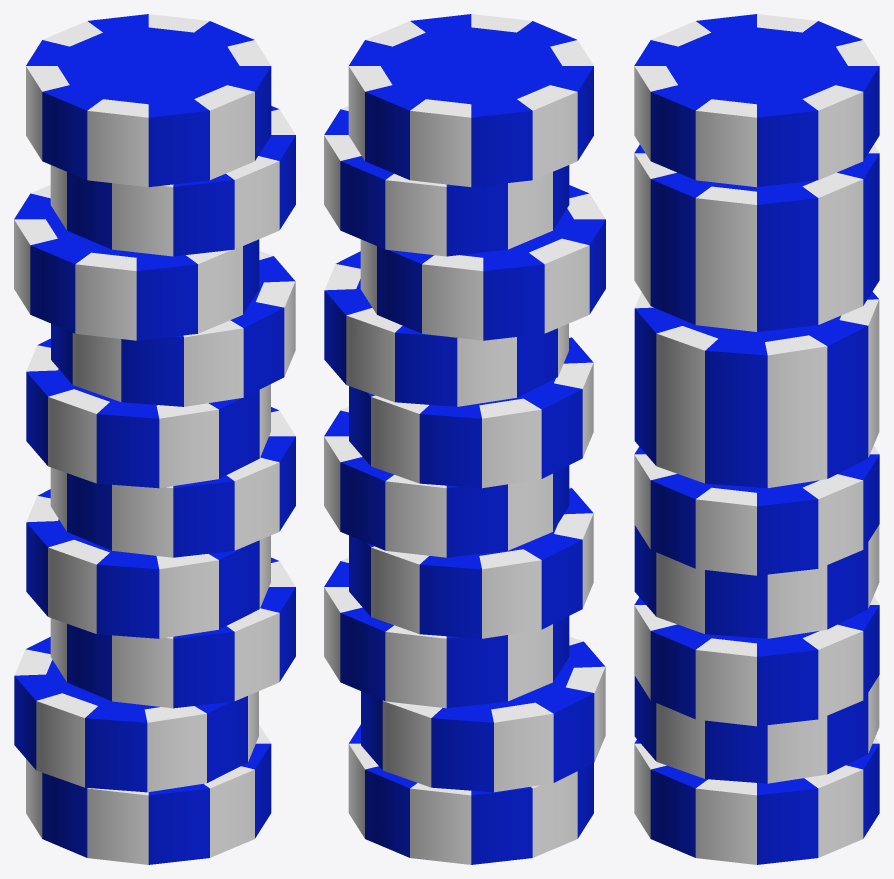
The model's file is Poker Chip Blue Large Stack.FBX.
The picture shows the model from 3 angles, left to right: view 1: azimuth 30°, elevation 25°; view 2: azimuth 150°, elevation 25°; view 3: azimuth 270°, elevation 25°; orthographic projection.
Visible parts, largest first — view 1: Poker Chip Blue009, Poker Chip Blue007, Poker Chip Blue001, Poker Chip Blue003, Poker Chip Blue005, Poker Chip Blue006, Poker Chip Blue Large Stack, Poker Chip Blue004, Poker Chip Blue002, Poker Chip Blue008; view 2: Poker Chip Blue009, Poker Chip Blue007, Poker Chip Blue001, Poker Chip Blue005, Poker Chip Blue003, Poker Chip Blue006, Poker Chip Blue Large Stack, Poker Chip Blue008, Poker Chip Blue004, Poker Chip Blue002; view 3: Poker Chip Blue009, Poker Chip Blue006, Poker Chip Blue008, Poker Chip Blue002, Poker Chip Blue004, Poker Chip Blue Large Stack, Poker Chip Blue005, Poker Chip Blue003, Poker Chip Blue001, Poker Chip Blue007.
Boxes of the visible parts, left/top/right/bottom form: Poker Chip Blue009: left=26, top=14, right=271, bottom=187; Poker Chip Blue007: left=14, top=185, right=259, bottom=340; Poker Chip Blue001: left=14, top=637, right=258, bottom=792; Poker Chip Blue003: left=26, top=489, right=270, bottom=638; Poker Chip Blue005: left=26, top=338, right=270, bottom=488; Poker Chip Blue006: left=51, top=251, right=295, bottom=406; Poker Chip Blue Large Stack: left=26, top=724, right=271, bottom=864; Poker Chip Blue004: left=50, top=407, right=295, bottom=557; Poker Chip Blue002: left=50, top=557, right=295, bottom=708; Poker Chip Blue008: left=50, top=106, right=295, bottom=256; Poker Chip Blue009: left=348, top=14, right=593, bottom=187; Poker Chip Blue007: left=360, top=185, right=605, bottom=340; Poker Chip Blue001: left=361, top=636, right=605, bottom=792; Poker Chip Blue005: left=349, top=336, right=593, bottom=488; Poker Chip Blue003: left=349, top=487, right=593, bottom=638; Poker Chip Blue006: left=324, top=251, right=568, bottom=406; Poker Chip Blue Large Stack: left=348, top=724, right=593, bottom=864; Poker Chip Blue008: left=324, top=106, right=569, bottom=256; Poker Chip Blue004: left=324, top=407, right=569, bottom=557; Poker Chip Blue002: left=324, top=557, right=569, bottom=708; Poker Chip Blue009: left=634, top=14, right=879, bottom=187; Poker Chip Blue006: left=634, top=291, right=879, bottom=424; Poker Chip Blue008: left=634, top=144, right=879, bottom=274; Poker Chip Blue002: left=634, top=596, right=879, bottom=726; Poker Chip Blue004: left=634, top=445, right=879, bottom=575; Poker Chip Blue Large Stack: left=634, top=737, right=879, bottom=864; Poker Chip Blue005: left=634, top=369, right=879, bottom=488; Poker Chip Blue003: left=634, top=525, right=879, bottom=638; Poker Chip Blue001: left=634, top=675, right=879, bottom=783; Poker Chip Blue007: left=634, top=223, right=879, bottom=331.
Size of the model in its own units: 0.0187 by 0.0537 by 0.016.
